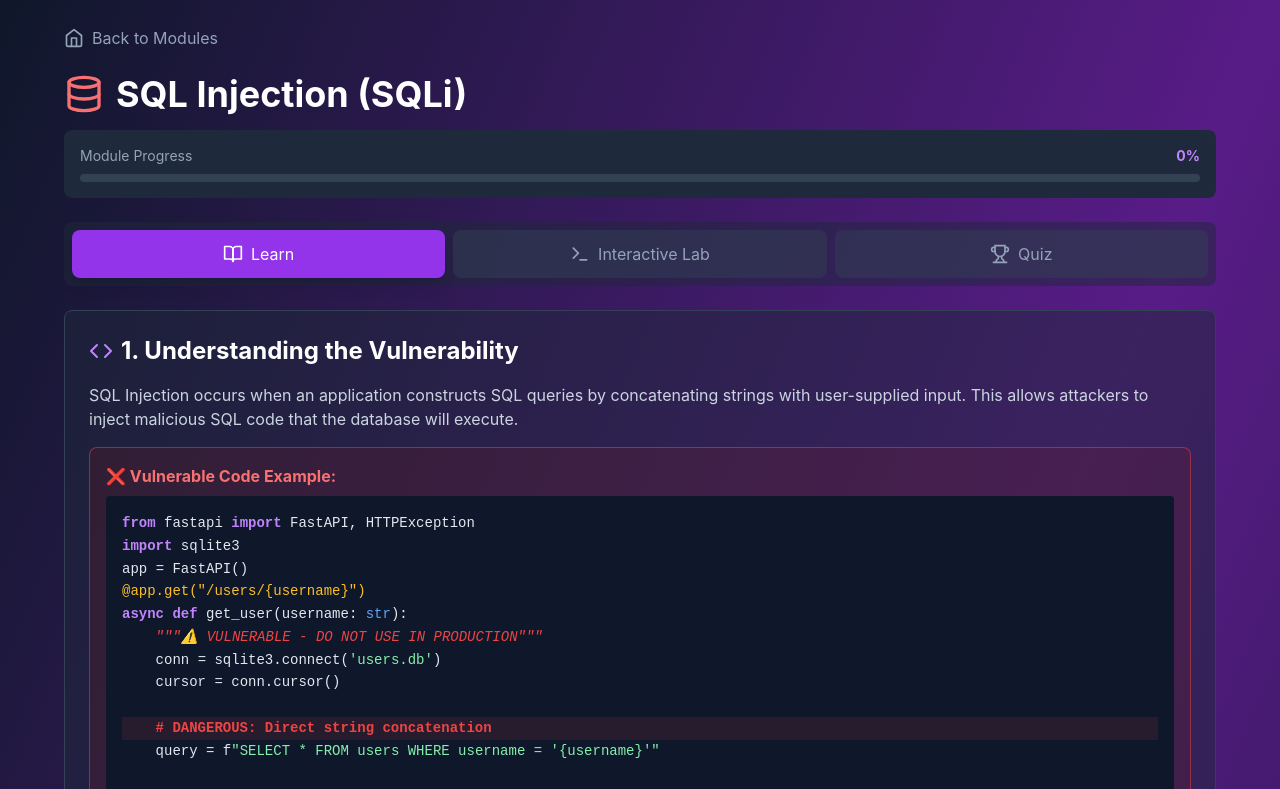
Test: SQLInjectionModule lab › flags a classic OR 1=1 authentication bypass
The image size is (1280, 789).
Click the button "Interactive Lab". click: [640, 254]
box: [453,230,827,278]
(page scrolled)
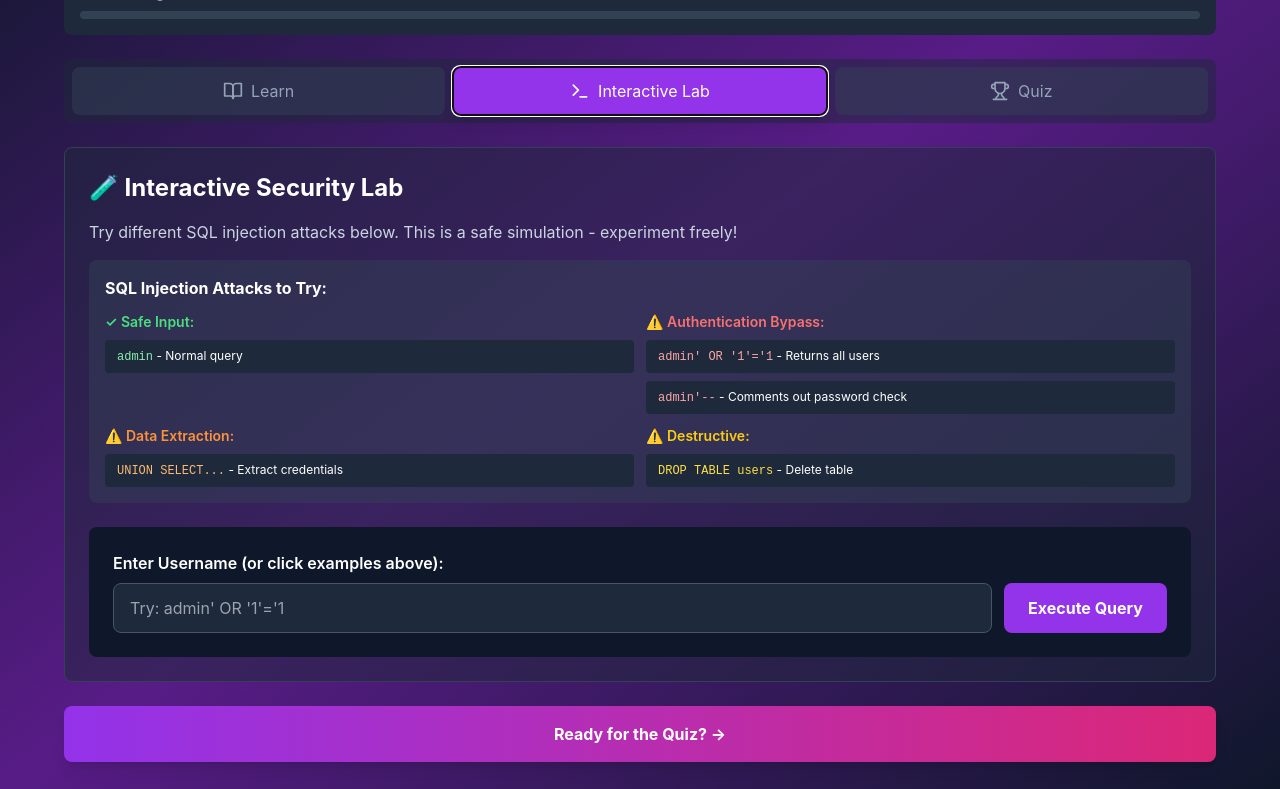
Type "admin' OR '1'='1" into the field with placeholder "Try: admin' OR '1'='1". click: [553, 608]
box: [113,583,992,633]
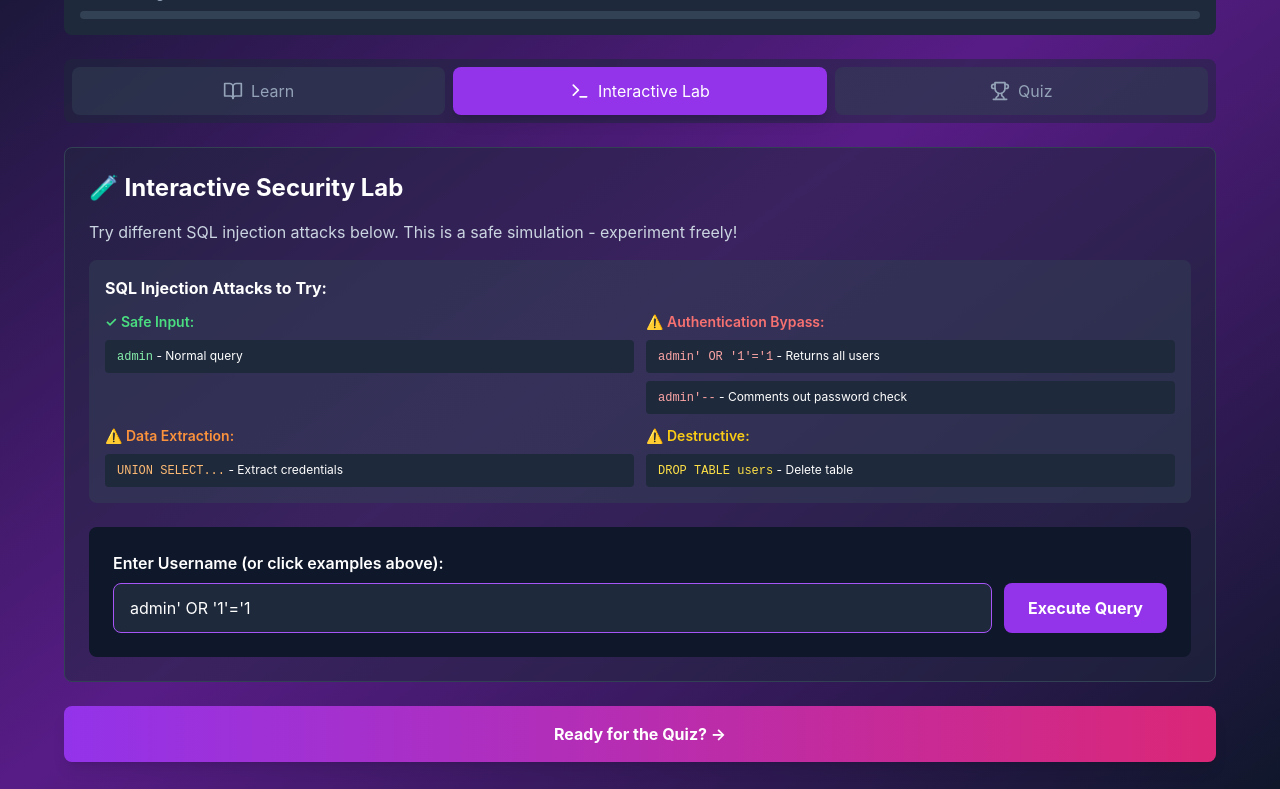
Click the button "Execute Query". click: [1086, 608]
box: [1004,583,1167,633]
(page scrolled)
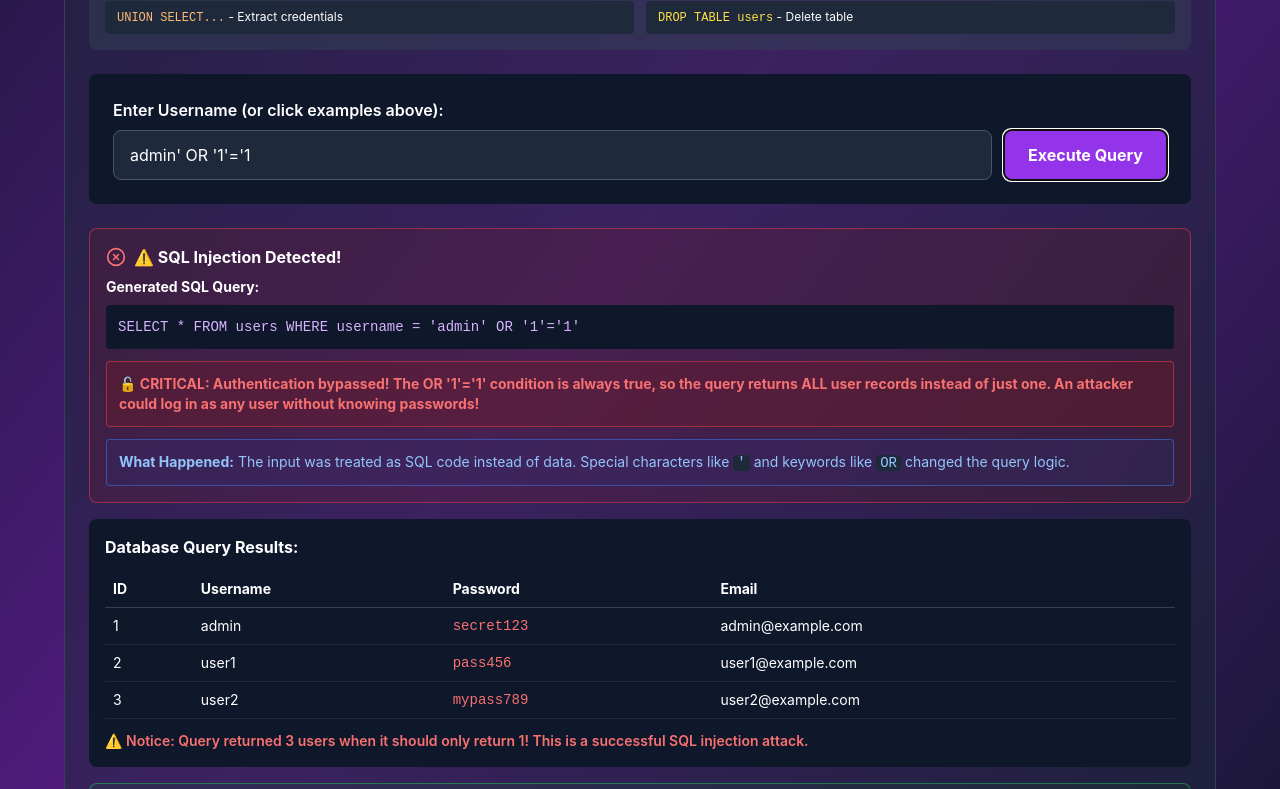
Now the heading "⚠️ SQL Injection Detected!" is shown, box [106,247,342,267]
Now the text "Authentication bypassed" is shown, box [119,375,1133,412]
